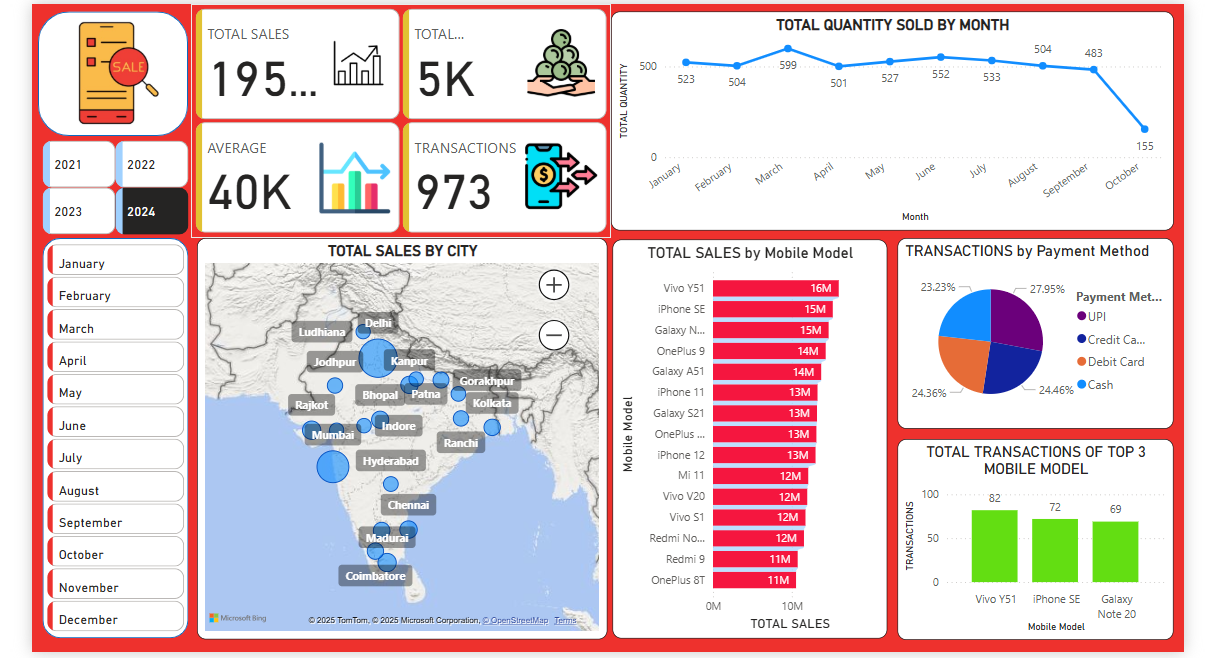

What the dashboard file says about the page in this screenshot:
{"tool":"powerbi","page":{"name":"Page 1","canvas":[1280,720],"ordinal":0},"visuals":[{"type":"shape","box":[12.1,260.3,162.1,444.8],"z":0},{"type":"advancedSlicerVisual","fields":{"Values":["Sales data.Date.Variation.Date Hierarchy.Month"]},"box":[12.1,262.1,162.1,443.1],"z":1000},{"type":"cardVisual","fields":{"Data":["Sales data.TOTAL SALES","Sales data.TOTAL QUANTITY","Sales data.AVERAGE","Sales data.TRANSACTIONS"]},"box":[176,0,468,260],"z":2000},{"type":"map","title":"TOTAL SALES BY CITY      ","fields":{"Category":["Sales data.City"],"Size":["Sales data.TOTAL SALES"]},"box":[184,260,456,446],"z":3000},{"type":"lineChart","title":"TOTAL QUANTITY SOLD BY MONTH","fields":{"Y":["Sales data.TOTAL QUANTITY"],"Category":["Sales data.Date.Variation.Date Hierarchy.Month","Sales data.Date.Variation.Date Hierarchy.Day"]},"box":[643.3,8.3,625,243.3],"z":4000},{"type":"clusteredColumnChart","title":"TOTAL TRANSACTIONS OF TOP 3 MOBILE MODEL","fields":{"Category":["Sales data.Mobile Model"],"Y":["Sales data.TRANSACTIONS"]},"box":[961.7,483.3,306.7,223.3],"z":5000},{"type":"pieChart","fields":{"Category":["Sales data.Payment Method"],"Y":["Sales data.TRANSACTIONS"]},"box":[961.7,260,306.7,211.7],"z":6000},{"type":"barChart","fields":{"Category":["Sales data.Mobile Model"],"Y":["Sales data.TOTAL SALES"]},"box":[645,261.7,305,443.3],"z":7000},{"type":"advancedSlicerVisual","fields":{"Values":["Sales data.Date.Variation.Date Hierarchy.Year"]},"box":[6.7,146.7,173.3,115],"z":8000},{"type":"shape","box":[6.7,8.3,166.7,138.3],"z":9000},{"type":"image","box":[15,8.3,158.3,135],"z":9001}]}

Visuals, with their boxes on the page's 1280x720 design canvas (x1, y1, x2, y2). These are canvas units, not pixel positions in the 1205x658 screenshot, which may show the page scaled, cropped or inside an application window:
shape: <box>12,260,174,705</box>
advancedSlicerVisual - Sales data.Date.Variation.Date Hierarchy.Month: <box>12,262,174,705</box>
cardVisual - Sales data.TOTAL SALES x Sales data.TOTAL QUANTITY: <box>176,0,644,260</box>
"TOTAL SALES BY CITY      " map: <box>184,260,640,706</box>
"TOTAL QUANTITY SOLD BY MONTH" lineChart: <box>643,8,1268,252</box>
"TOTAL TRANSACTIONS OF TOP 3 MOBILE MODEL" clusteredColumnChart: <box>962,483,1268,707</box>
pieChart - Sales data.Payment Method x Sales data.TRANSACTIONS: <box>962,260,1268,472</box>
barChart - Sales data.Mobile Model x Sales data.TOTAL SALES: <box>645,262,950,705</box>
advancedSlicerVisual - Sales data.Date.Variation.Date Hierarchy.Year: <box>7,147,180,262</box>
shape: <box>7,8,173,147</box>
image: <box>15,8,173,143</box>
